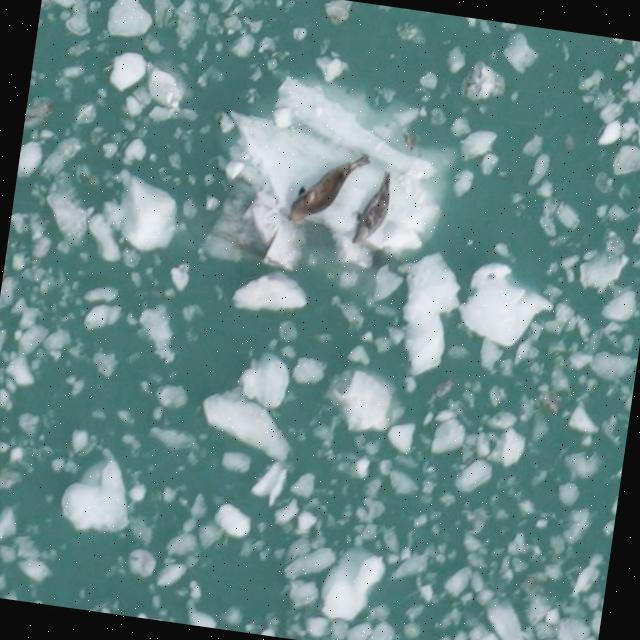seal: (275, 150, 382, 226), (338, 170, 408, 252)
